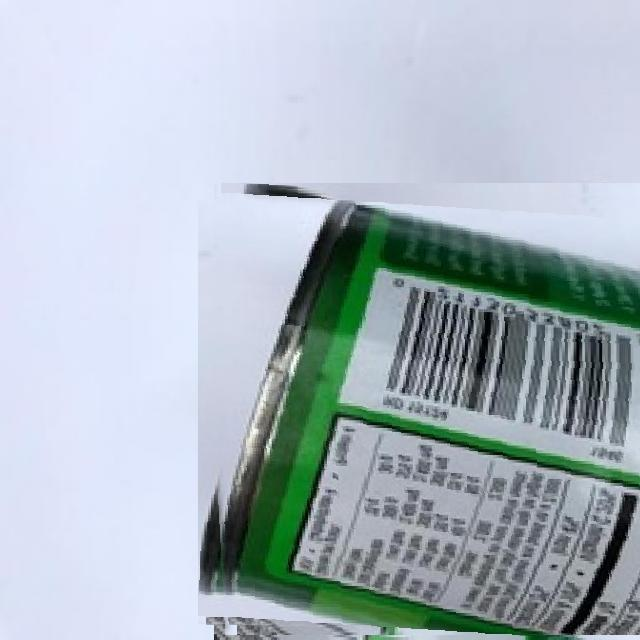recyclable: (202, 186, 640, 635)
